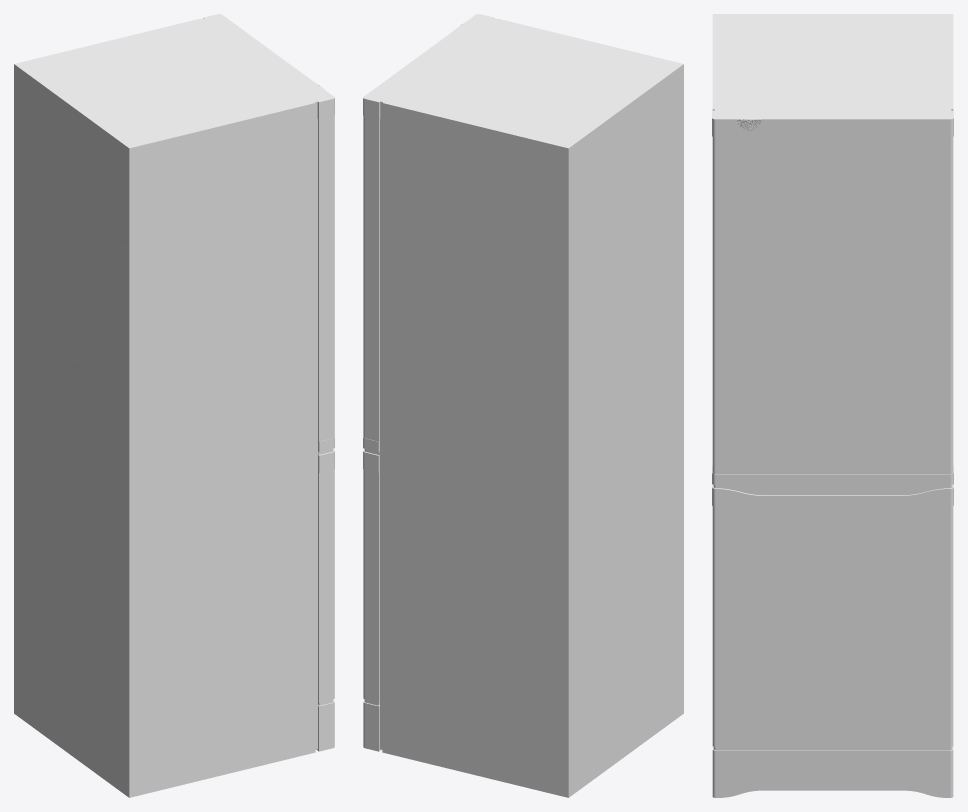
Rendered from fridge.dae.
3 renders of one model, left to right at view 1: azimuth 30°, elevation 25°; view 2: azimuth 150°, elevation 25°; view 3: azimuth 270°, elevation 25°, orthographic. The views are drawn at different scales.
Parts seen in each view (by area): view 1: SketchUp; view 2: SketchUp; view 3: SketchUp (×2).
Part boxes in pixels (<box>): SketchUp: <box>14,14,334,797</box>; SketchUp: <box>363,14,683,797</box>; SketchUp (×2): <box>712,14,953,797</box>.
Bounding box in the file's own units: 24.49 × 23.7 × 73.43.
Materials: 3 (2 with a texture image).
